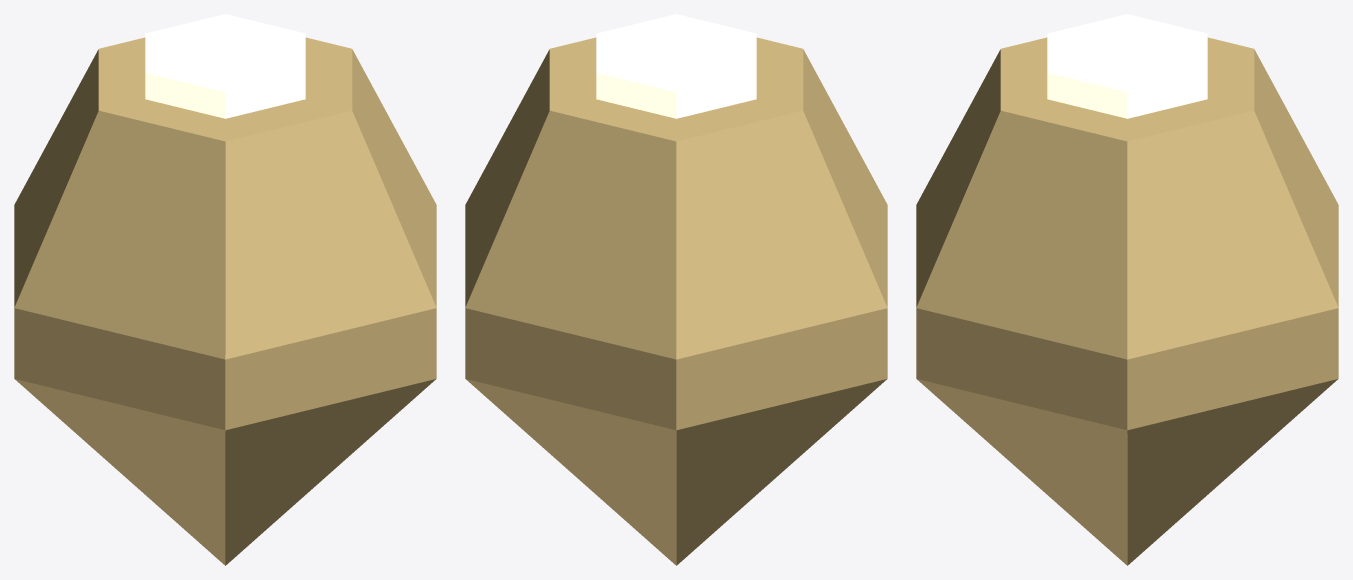
Rendered from Crystal.fbx.
The picture shows the model from 3 angles, left to right: view 1: azimuth 30°, elevation 25°; view 2: azimuth 150°, elevation 25°; view 3: azimuth 270°, elevation 25°; orthographic projection.
Parts seen in each view (by area): view 1: Gem, Core; view 2: Gem, Core; view 3: Gem, Core.
Boxes of the visible parts, x1,y1,x2,y2 form: Gem: (14,37,436,565); Core: (145,14,305,118); Gem: (465,37,887,565); Core: (596,14,756,118); Gem: (916,37,1338,565); Core: (1047,14,1207,118).
Size of the model in its own units: 1 by 1.16 by 0.866.
